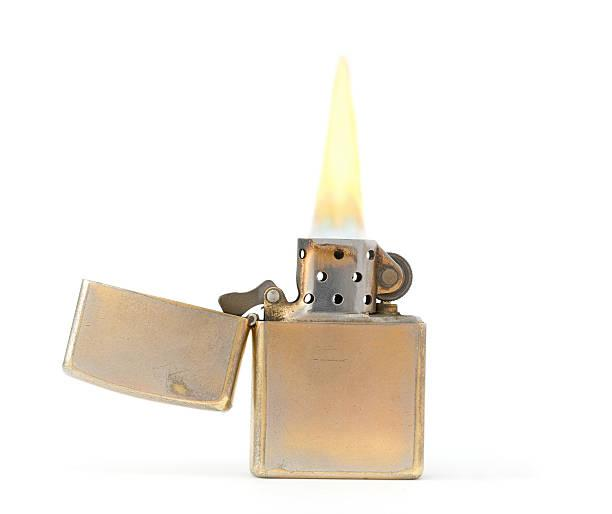Fire: (306, 53, 371, 242)
